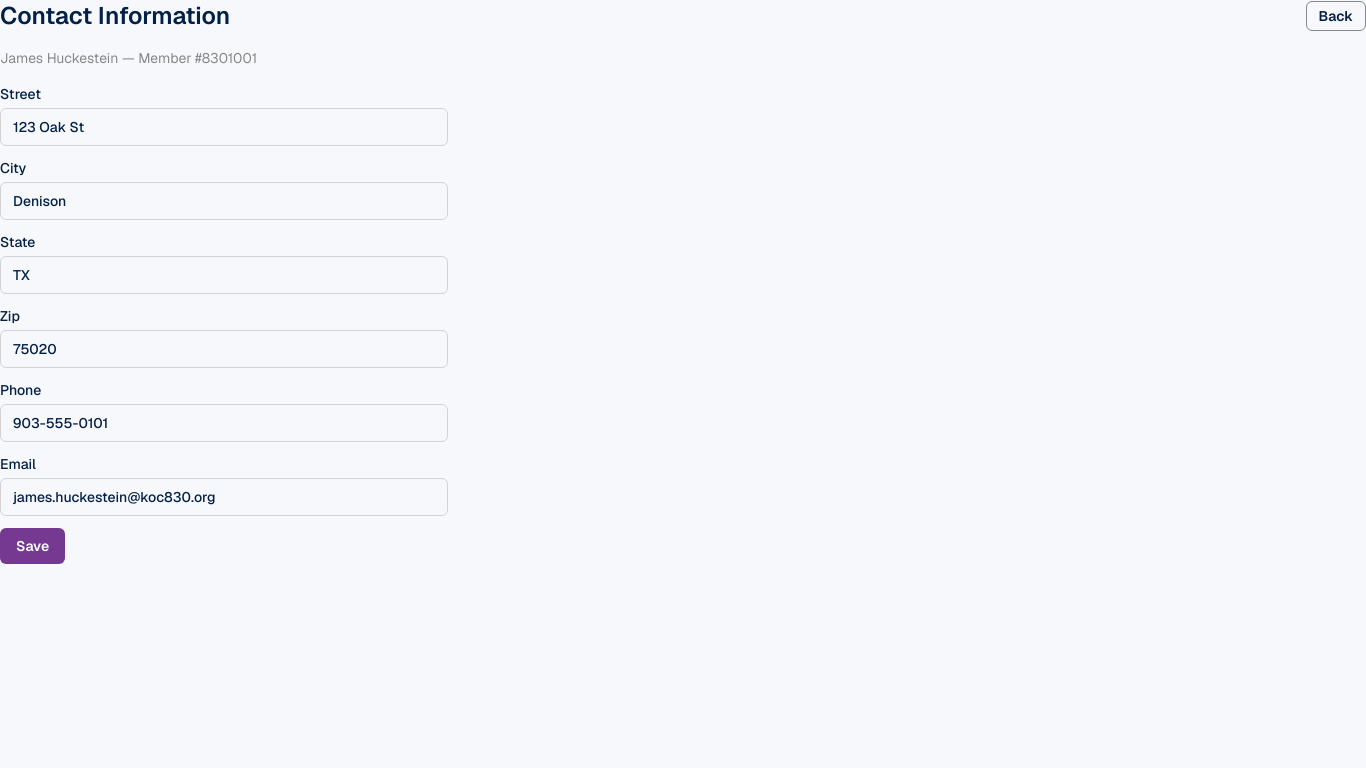
Test: ContactInfoForm › dismisses the modal when Dismiss is clicked
The width and height of the screenshot is (1366, 768).
Click the button "Save": (33, 546) [0,528,65,564]
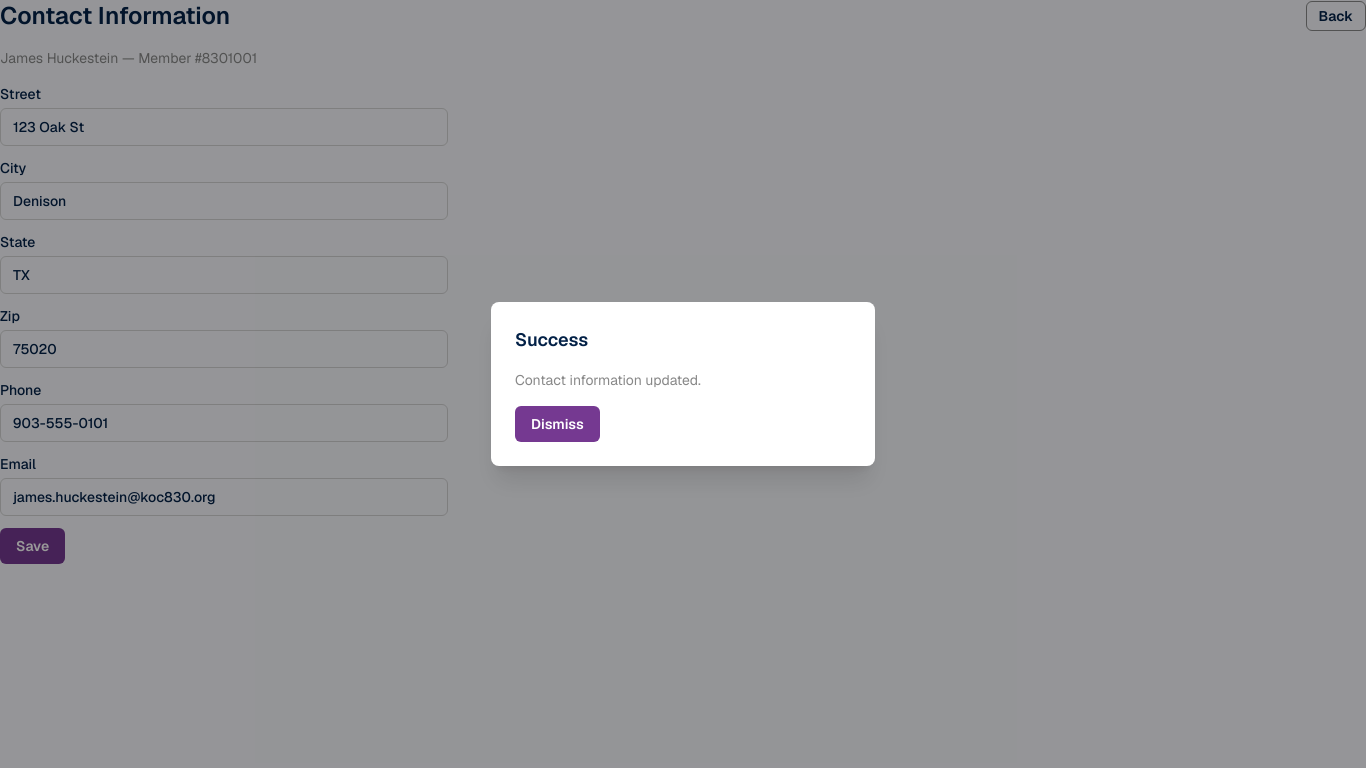
Result: the button "Dismiss" is shown
Click the button "Dismiss": (557, 424) [515,406,600,442]
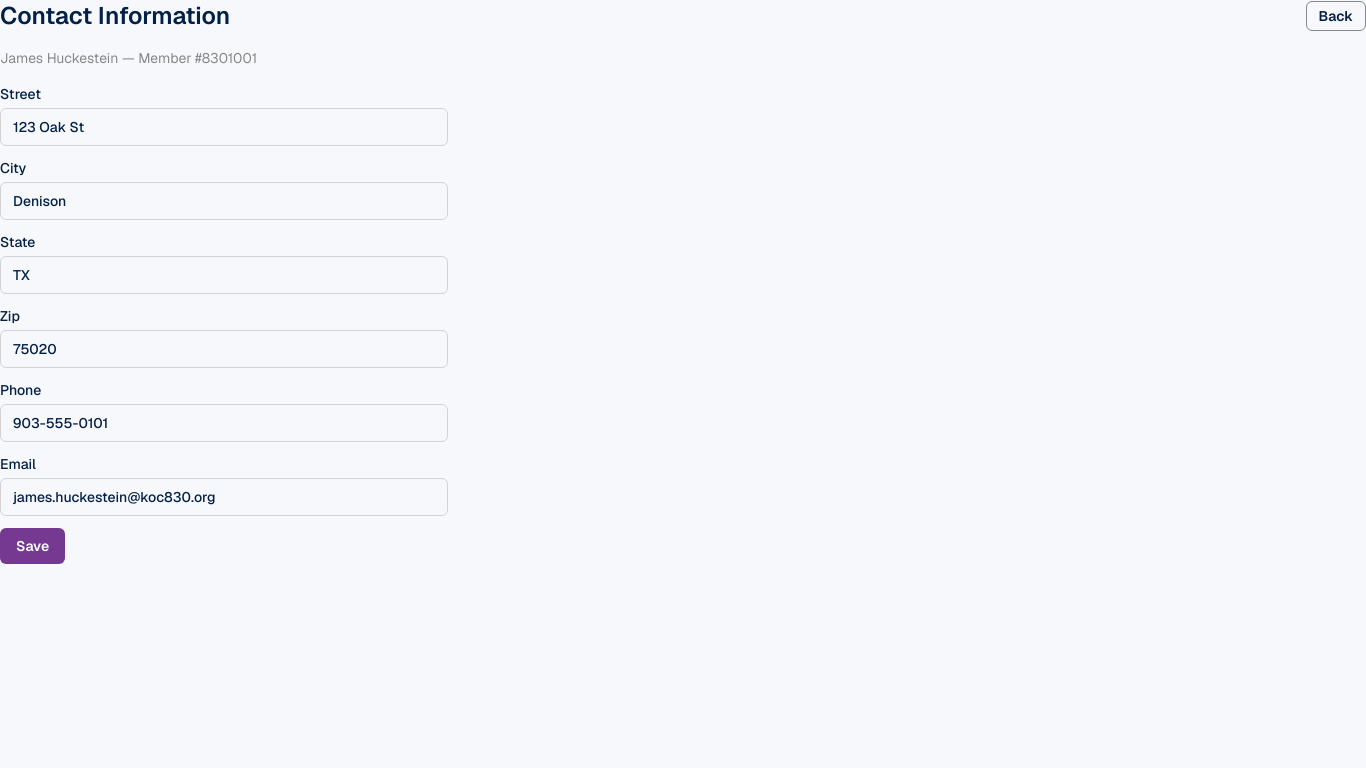
Result: the heading "Success" is gone
